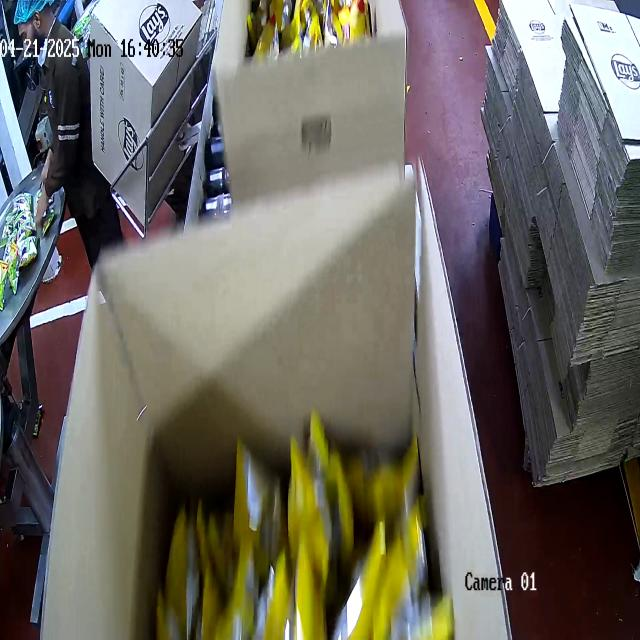SALTED: (162, 438, 468, 640), (248, 0, 366, 53)
